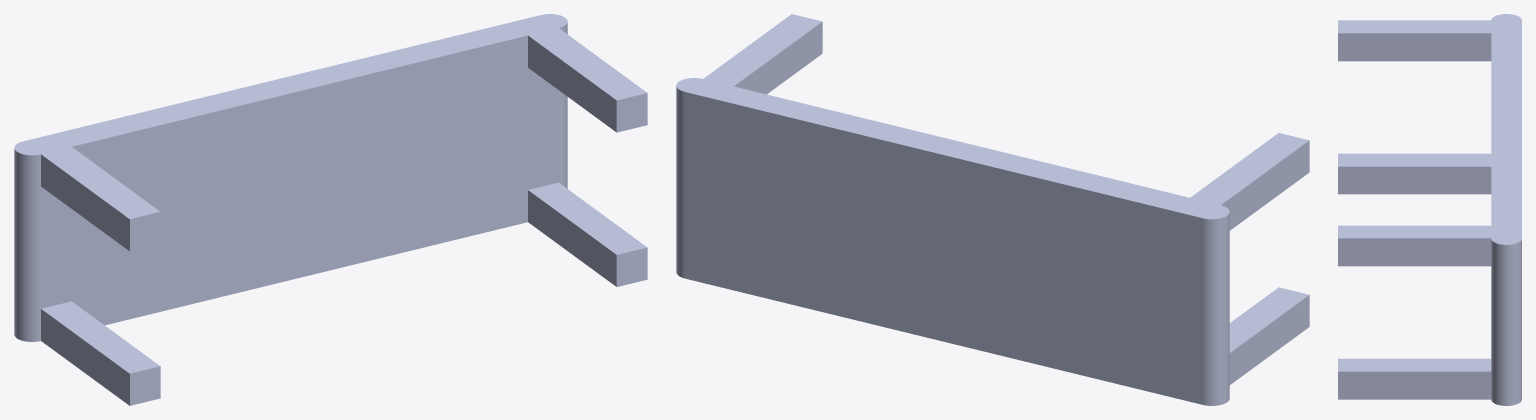
The model's file is chuansongdai.fbx.
3 renders of one model, left to right at view 1: azimuth 30°, elevation 25°; view 2: azimuth 150°, elevation 25°; view 3: azimuth 270°, elevation 25°, orthographic. The views are drawn at different scales.
Parts seen in each view (by area): view 1: 凸台-拉伸2, 凸台-拉伸1 (×4); view 2: 凸台-拉伸2, 凸台-拉伸1 (×3); view 3: 凸台-拉伸1 (×4), 凸台-拉伸2.
Part boxes in pixels (left/top/right/bottom): 凸台-拉伸2: left=14, top=14, right=567, bottom=341; 凸台-拉伸1 (×4): left=41, top=28, right=647, bottom=405; 凸台-拉伸2: left=676, top=78, right=1229, bottom=405; 凸台-拉伸1 (×3): left=703, top=14, right=1309, bottom=384; 凸台-拉伸1 (×4): left=1338, top=20, right=1491, bottom=399; 凸台-拉伸2: left=1491, top=14, right=1521, bottom=405.
Size of the model in its own units: 21.06 by 6.85 by 7.09.
